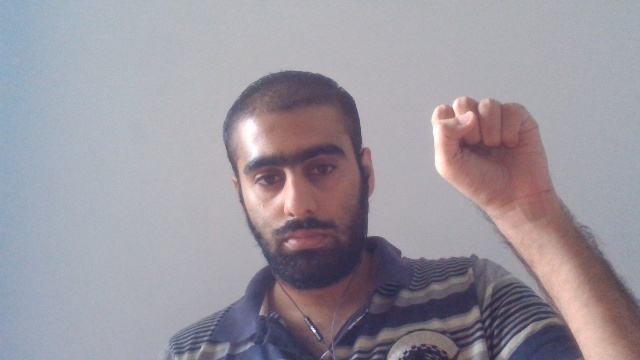rock: (430, 95, 571, 215)
